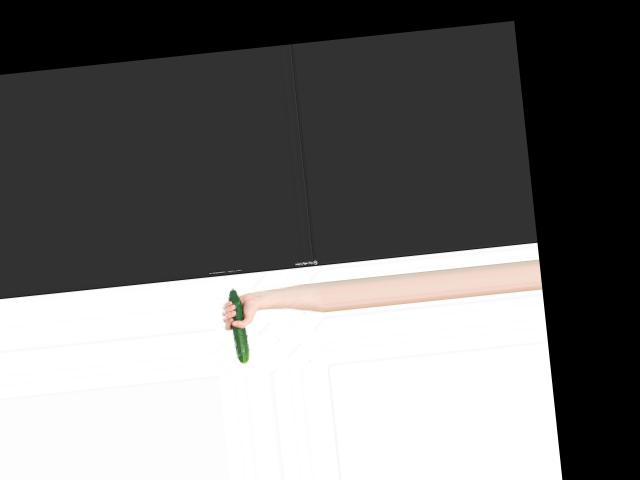cucumber: (226, 287, 249, 363)
